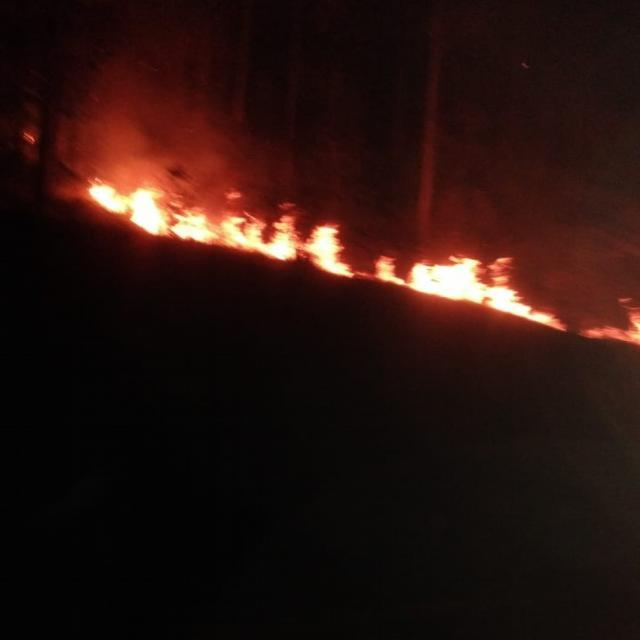Fire: (84, 180, 358, 282), (374, 252, 560, 330)
